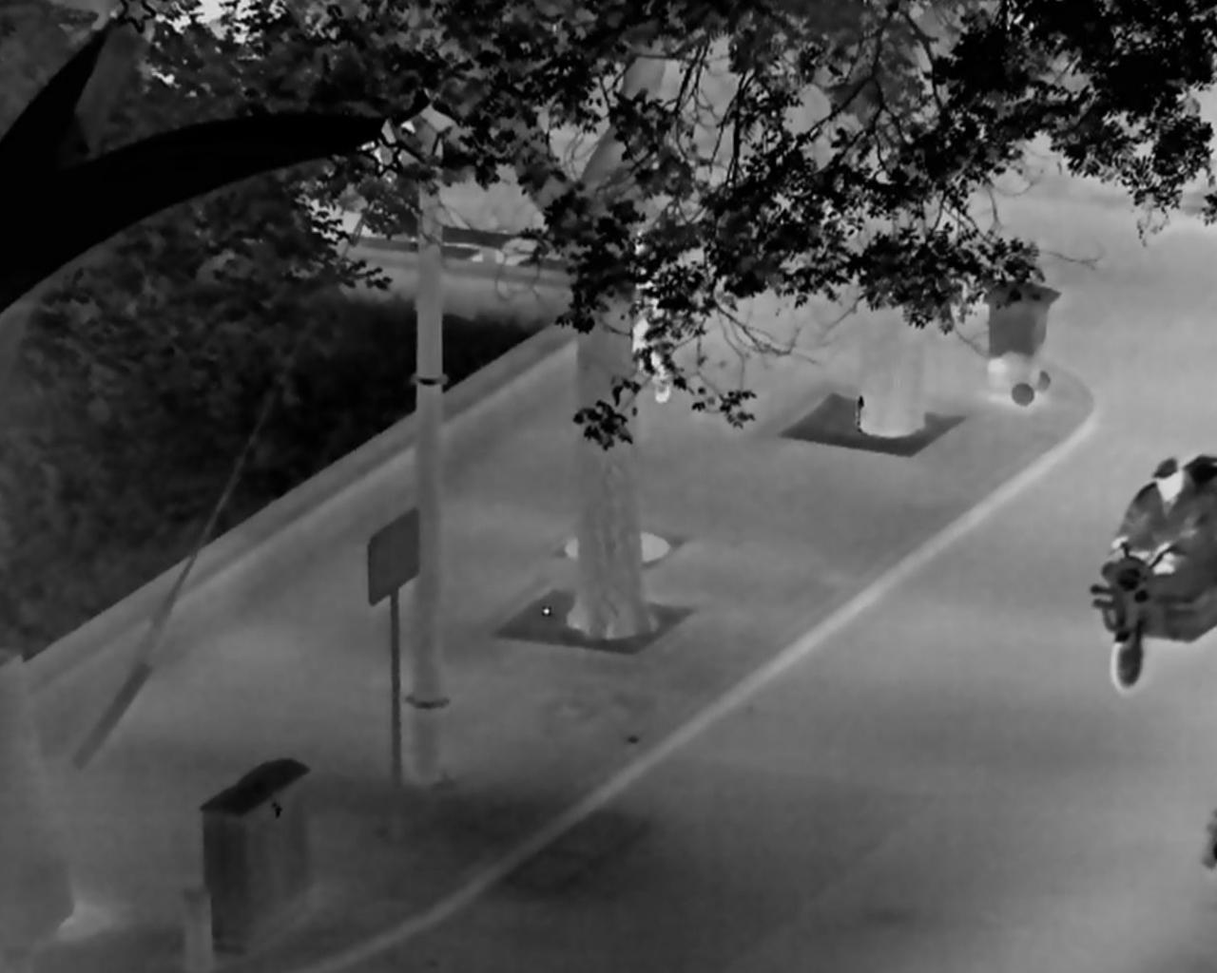person: (1112, 457, 1204, 572), (629, 227, 672, 402)
